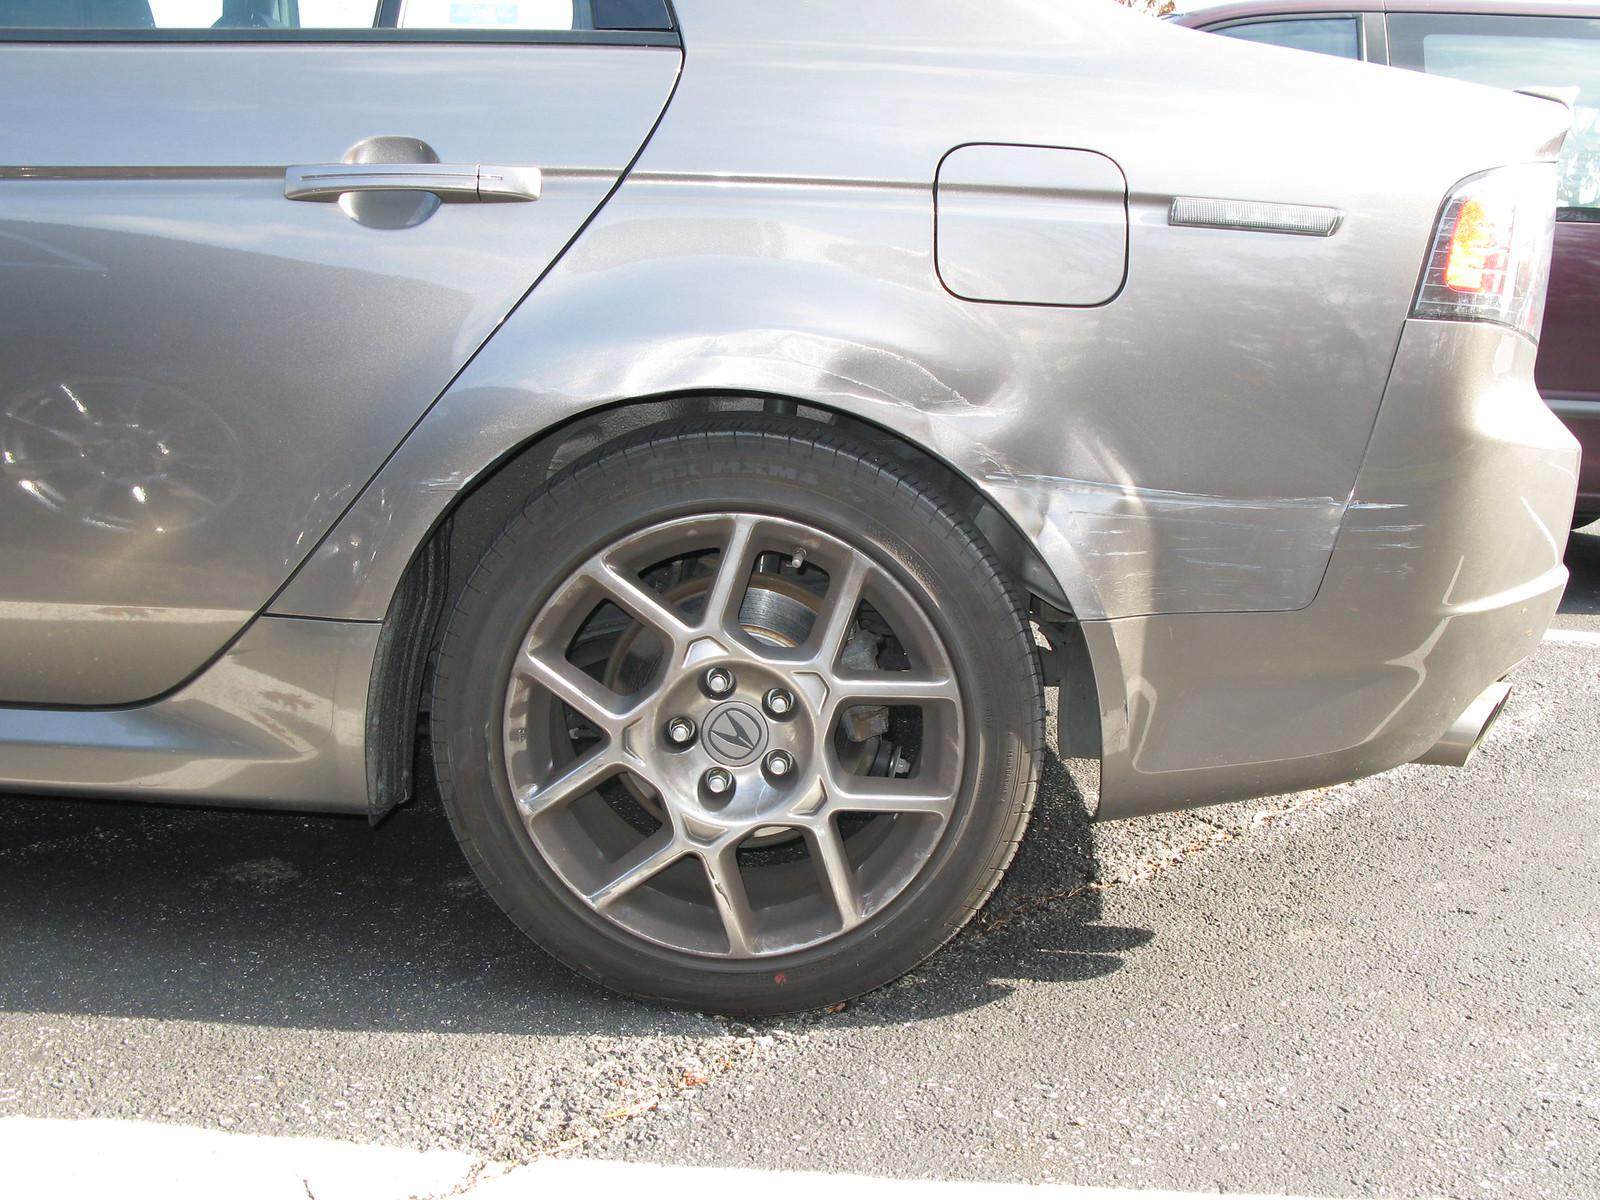doorouter-dent: (0, 61, 524, 853)
quaterpanel-dent: (585, 47, 1354, 790)
